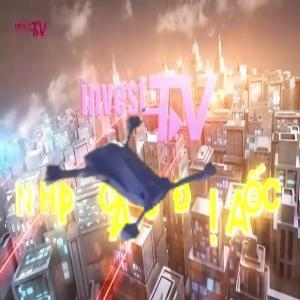drone: (12, 92, 201, 281)
